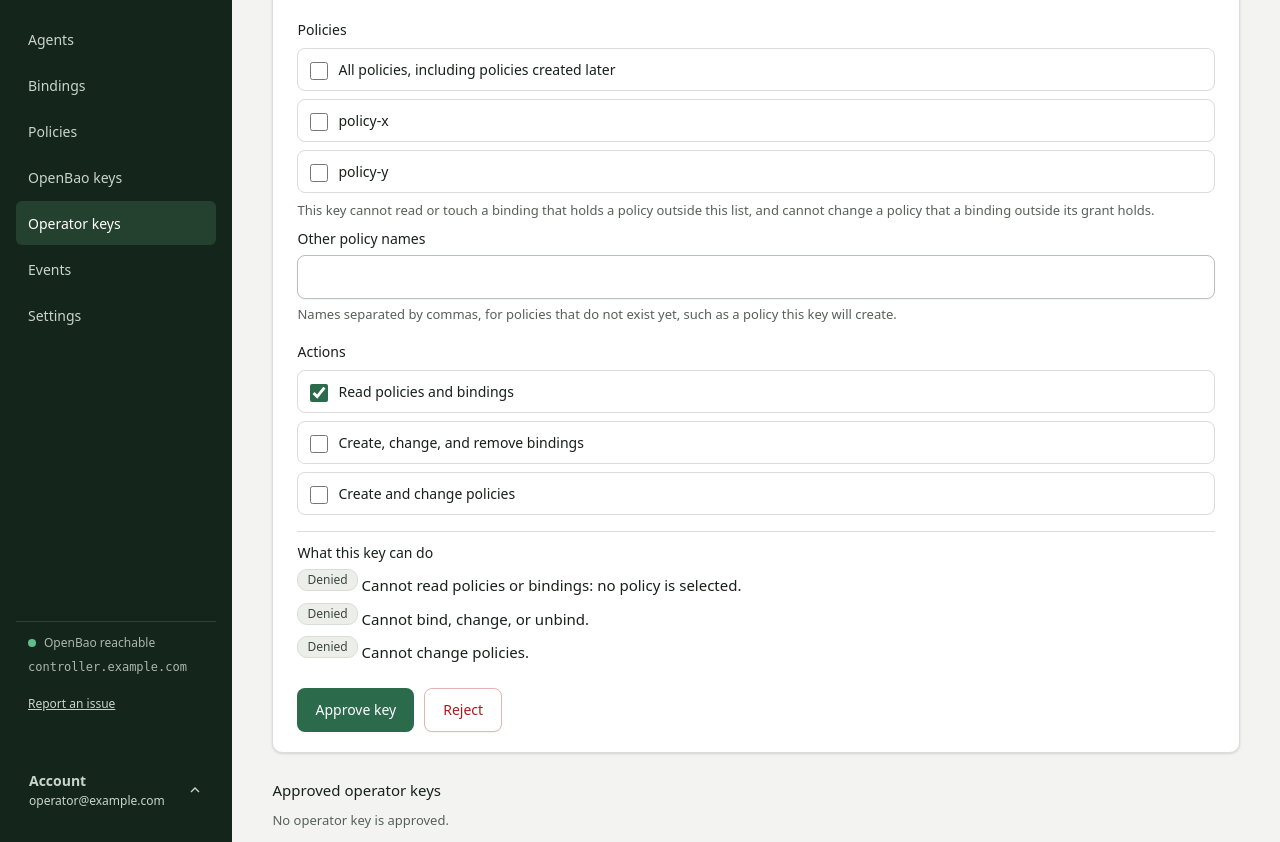
Test case: states the refusal when no action is selected
The width and height of the screenshot is (1280, 842).
(page scrolled)
Click the checkbox labelled "Read policies and bindings".
click(320, 392)  # box [310,384,328,402]
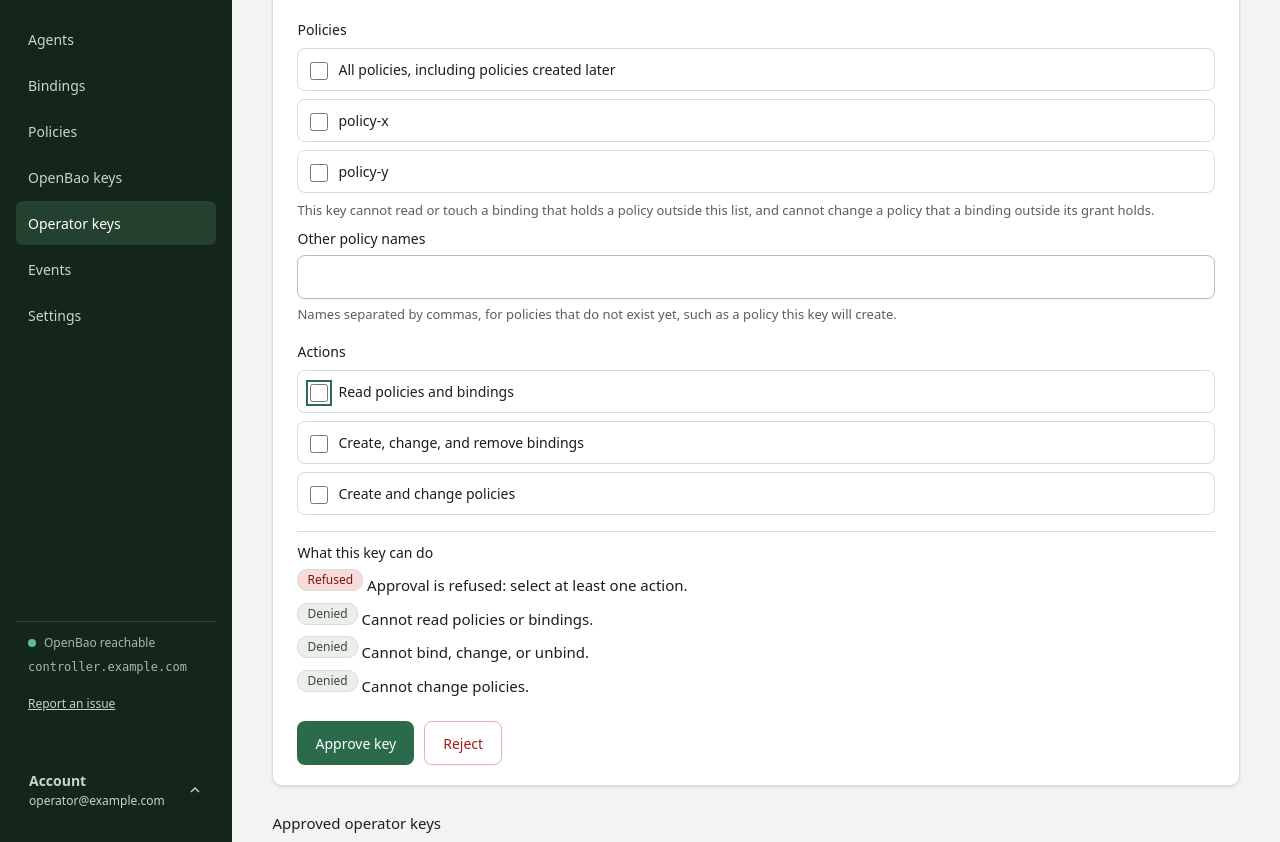
expect the text with class "grant-line" reads "Approval is refused: select at least one action.": met, box [367,575,688,595]
